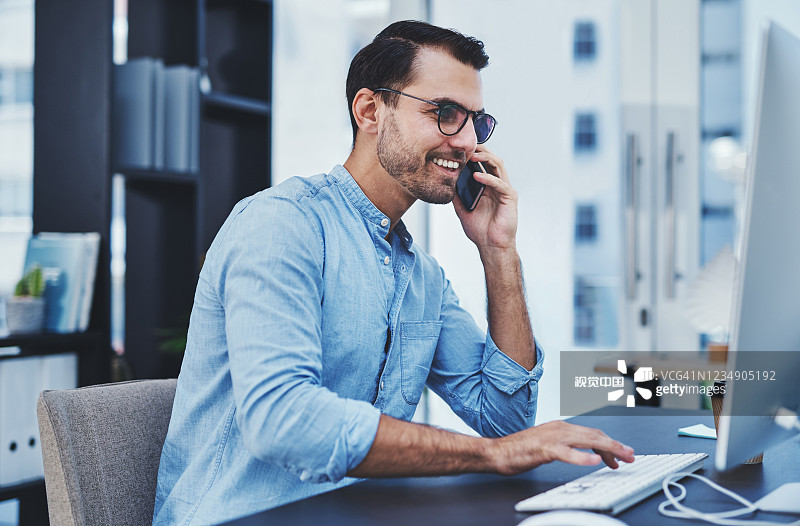calling: (443, 137, 551, 265)
